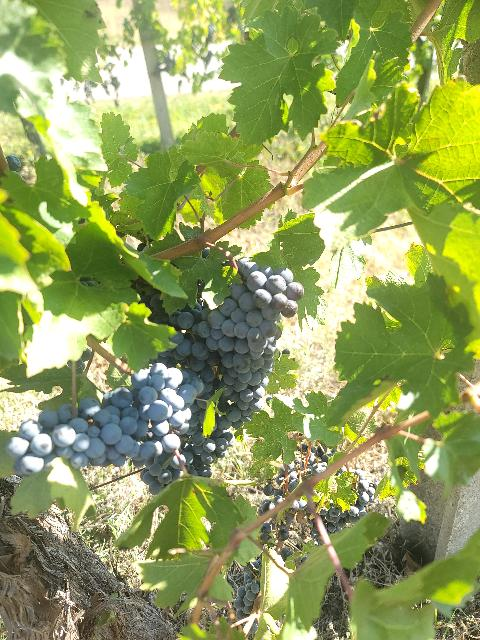grapes: (208, 260, 304, 428), (5, 389, 180, 476), (141, 291, 230, 398), (111, 362, 201, 441)
